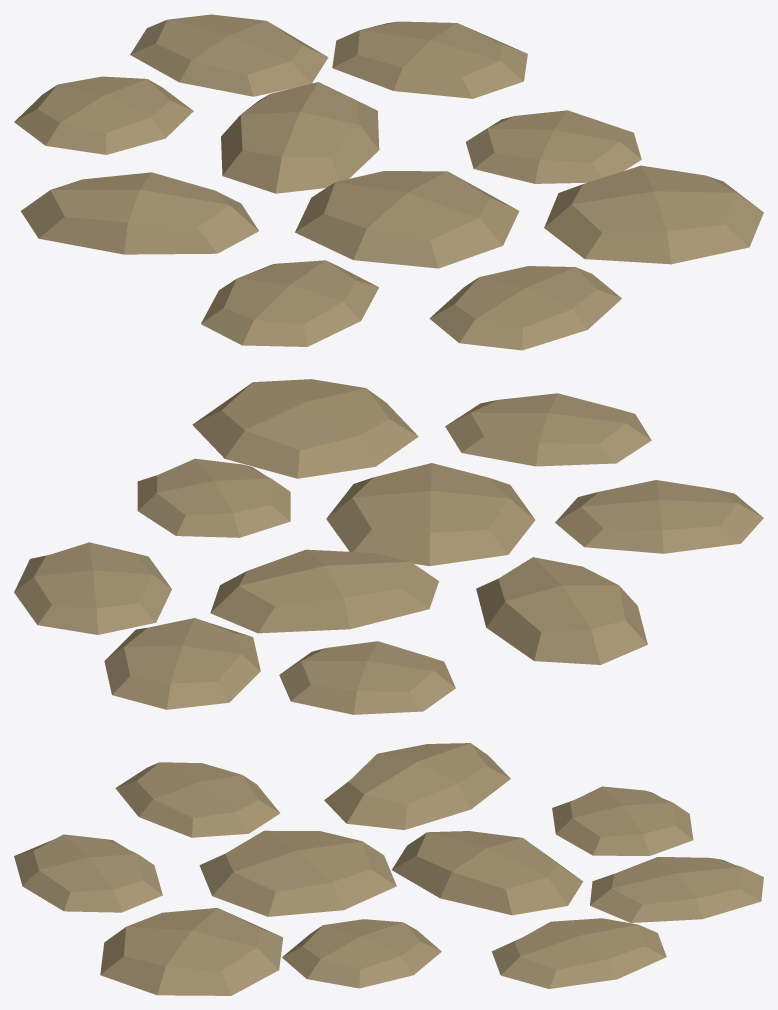
Rendered from tomato seeds.fbx.
3 renders of one model, top to bottom at view 1: azimuth 30°, elevation 25°; view 2: azimuth 150°, elevation 25°; view 3: azimuth 270°, elevation 25°, orthographic. The views are drawn at different scales.
Parts seen in each view (by area): view 1: tomato_seeds1; view 2: tomato_seeds1; view 3: tomato_seeds1.
Part boxes in pixels (x1,y1,x2,y2): tomato_seeds1: (14, 14, 763, 350); tomato_seeds1: (14, 379, 763, 714); tomato_seeds1: (14, 743, 763, 995).
Size of the model in its own units: 4.57 by 0.3536 by 5.87.
